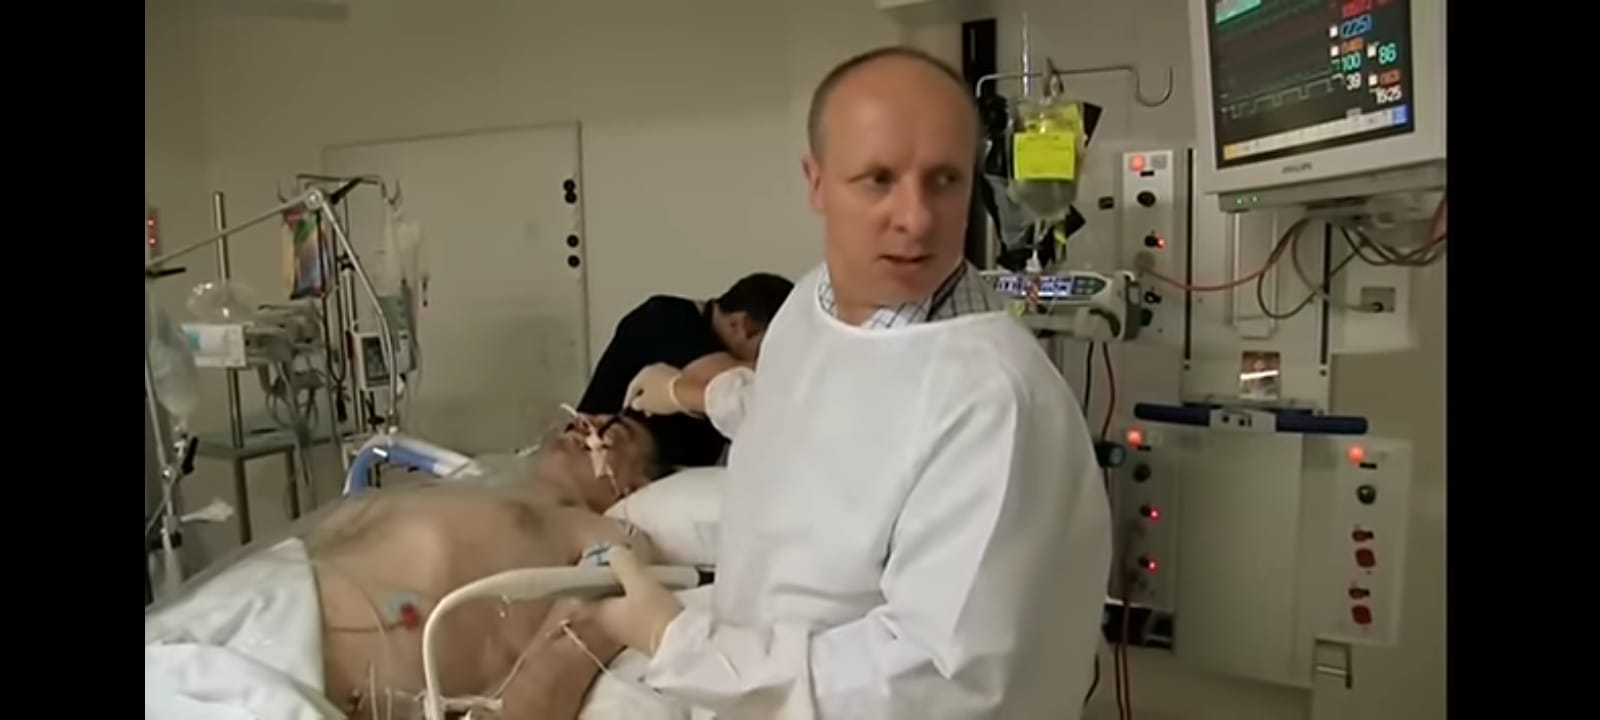doctor: (692, 43, 1117, 720), (566, 261, 803, 430)
patient: (237, 401, 685, 720)
